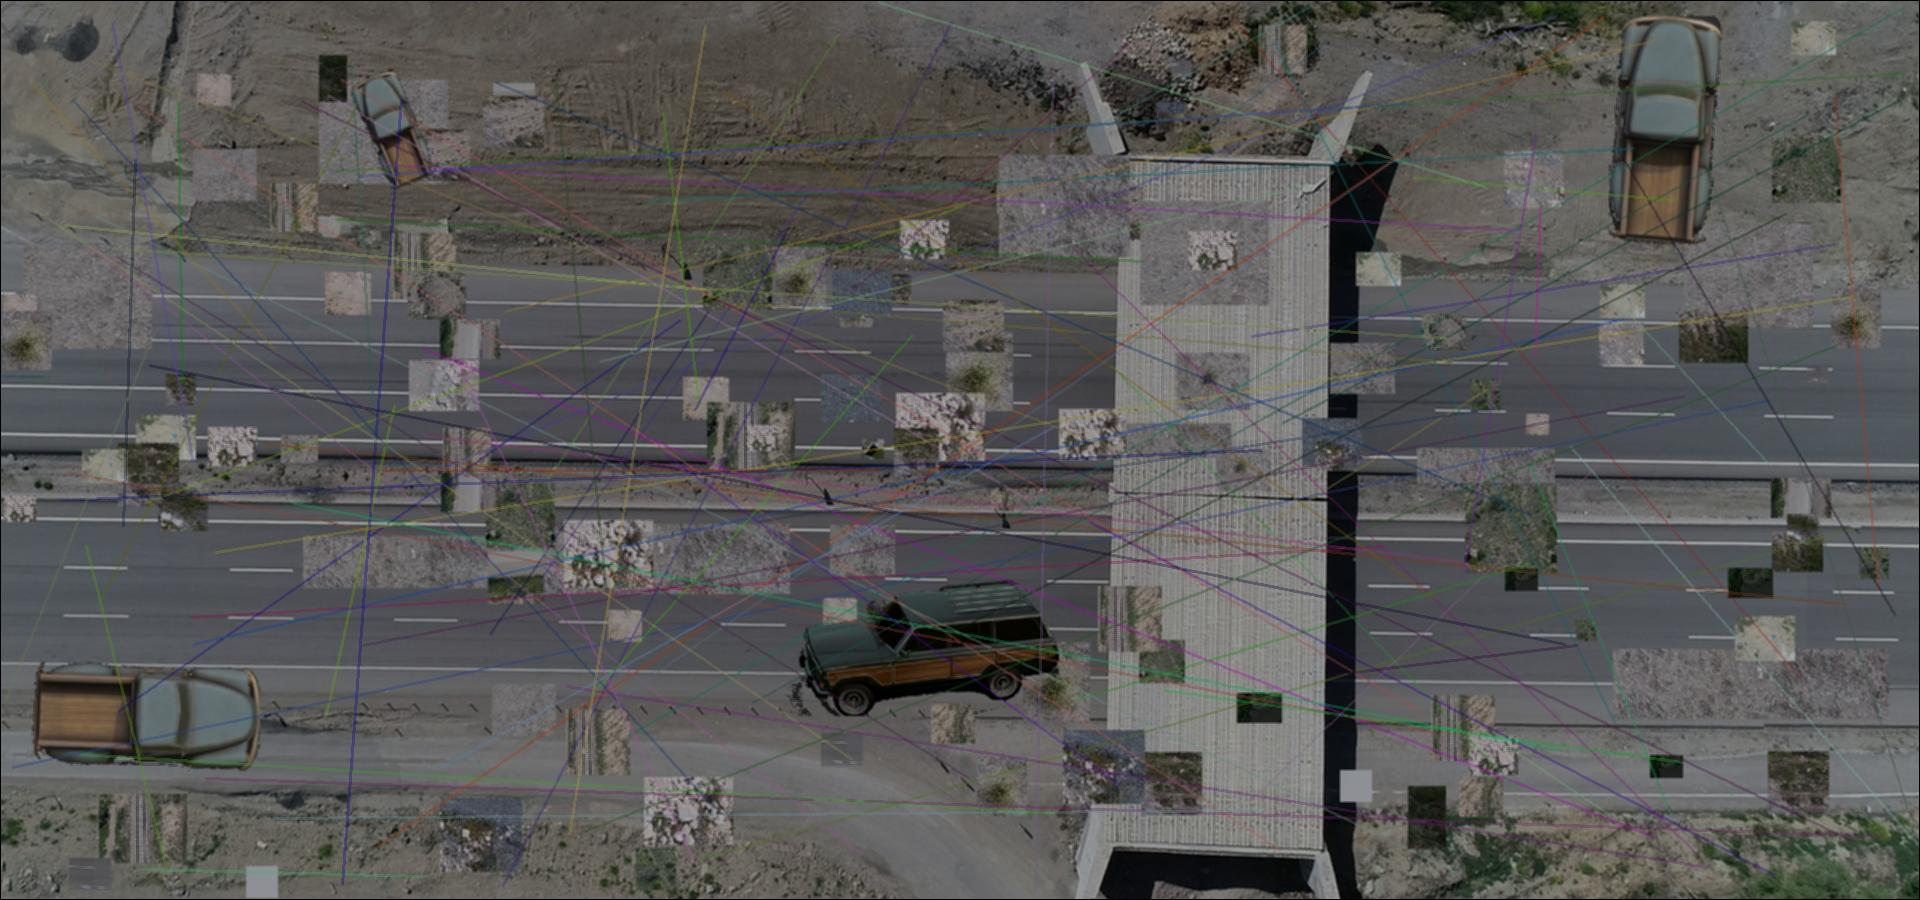arac: (786, 576, 1059, 716), (29, 658, 260, 775), (1609, 16, 1722, 247), (350, 69, 436, 191)
